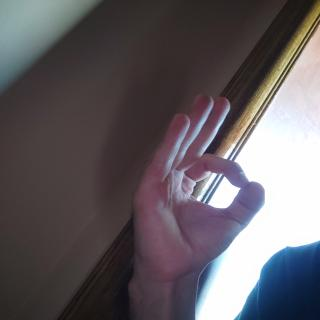Space: (130, 85, 266, 280)
